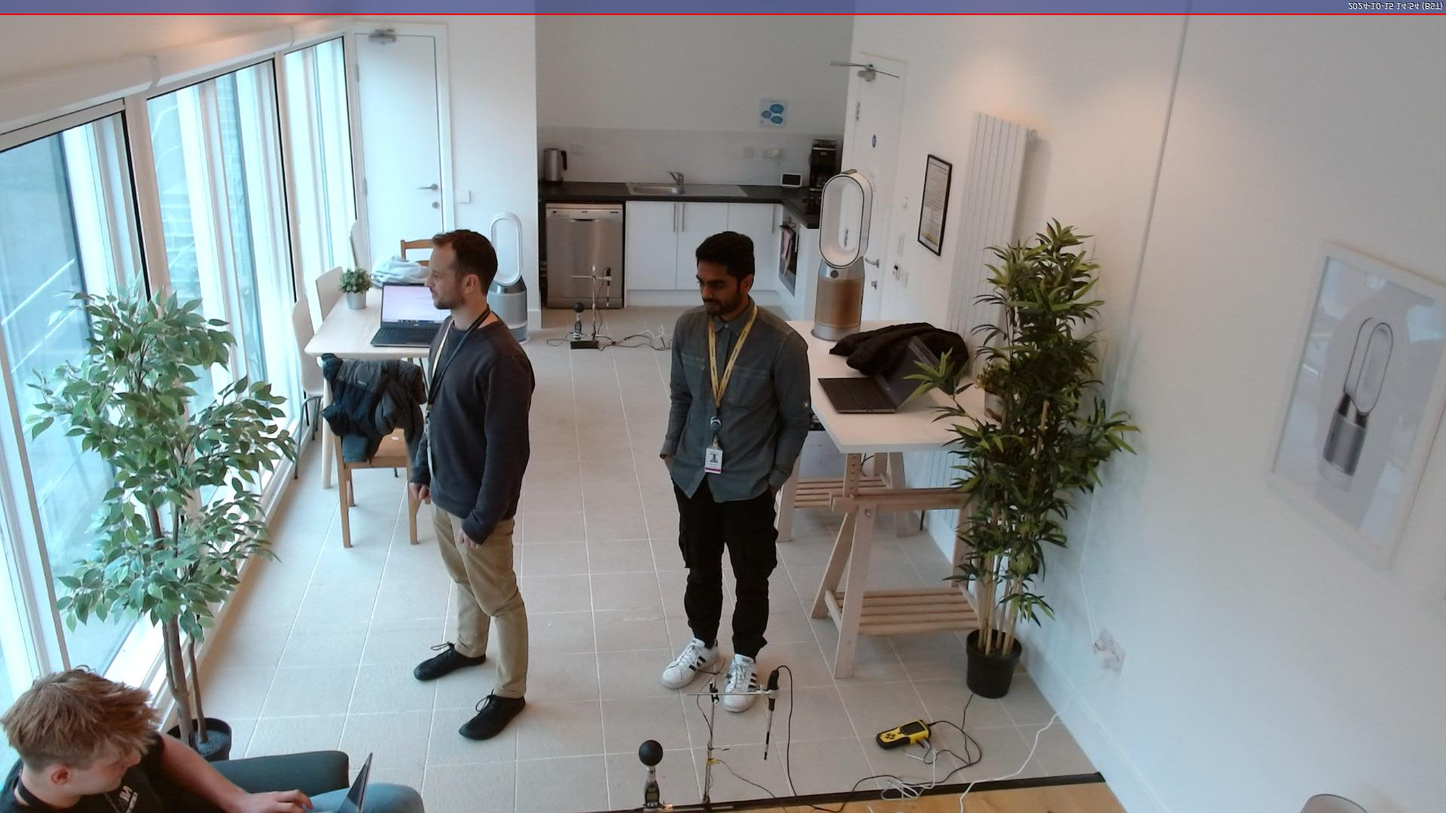long sleeve shirt: (655, 300, 815, 505)
short sleeve shirt: (0, 725, 173, 813)
sweater: (408, 308, 536, 545)
trousers: (432, 501, 531, 704), (673, 481, 781, 664), (264, 780, 426, 813)
